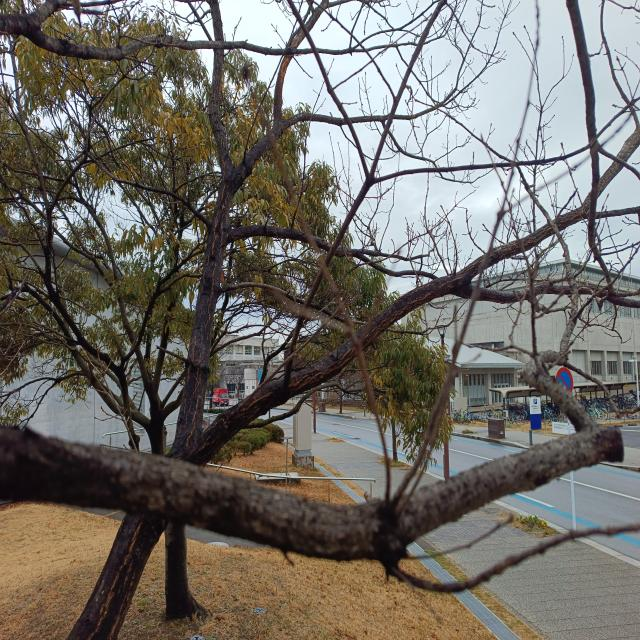Branch: (1, 349, 625, 565), (202, 270, 472, 464), (462, 206, 587, 278)
Twig: (581, 129, 639, 209), (565, 361, 639, 416), (471, 284, 639, 307), (557, 232, 580, 354), (591, 206, 640, 221)
